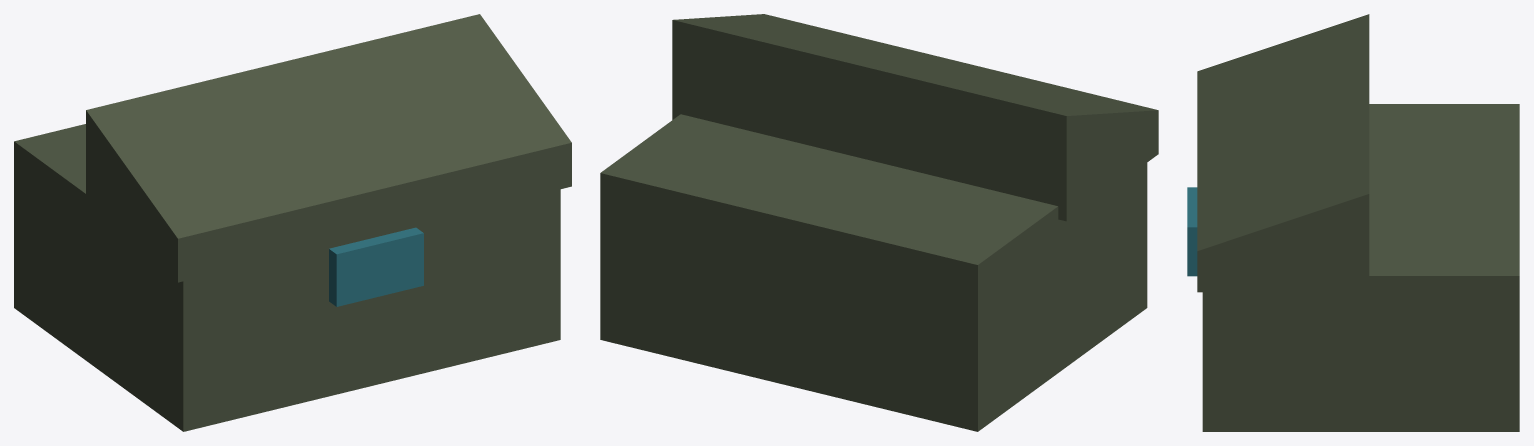
File: Bastion_GunTower_WeaponYaw.obj
3 renders of one model, left to right at view 1: azimuth 30°, elevation 25°; view 2: azimuth 150°, elevation 25°; view 3: azimuth 270°, elevation 25°, orthographic. The views are drawn at different scales.
Visible parts, largest first — view 1: Bastion_GunTower_WeaponYaw; view 2: Bastion_GunTower_WeaponYaw; view 3: Bastion_GunTower_WeaponYaw.
Part boxes in pixels (box(x1,y1,x2,y2)): Bastion_GunTower_WeaponYaw: box(14, 14, 571, 431); Bastion_GunTower_WeaponYaw: box(600, 14, 1158, 431); Bastion_GunTower_WeaponYaw: box(1187, 14, 1519, 431).
Size of the model in its own units: 2.35 by 1.47 by 1.83.
Materials: 1 (1 with a texture image).
